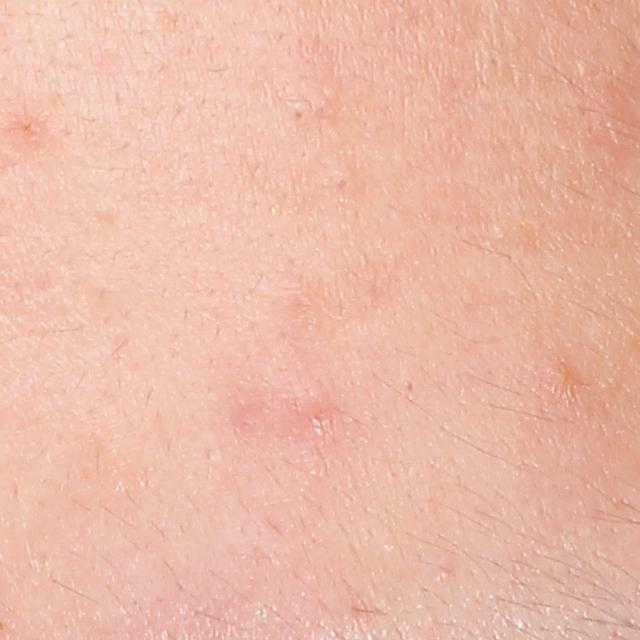papule: (308, 404, 335, 434)
